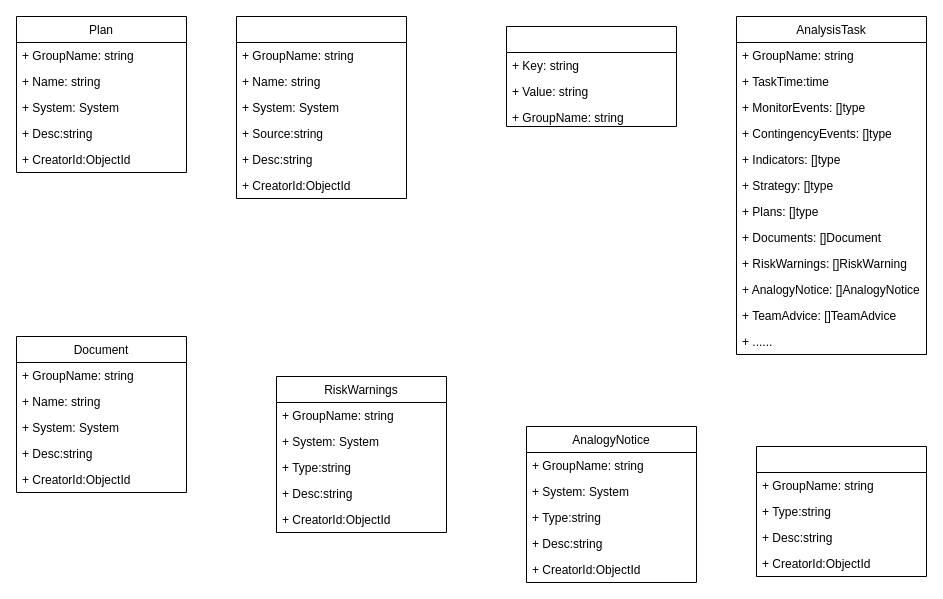
Some shapes in this 943 by 599 pixel diagram are drawn without their labels. The box of each missing label's shape, as (x1, y1, x2, y2) in pixels:
Indicator: (506, 26, 676, 126)
Strategy: (236, 16, 406, 198)
TeamAdvice: (756, 446, 926, 576)
